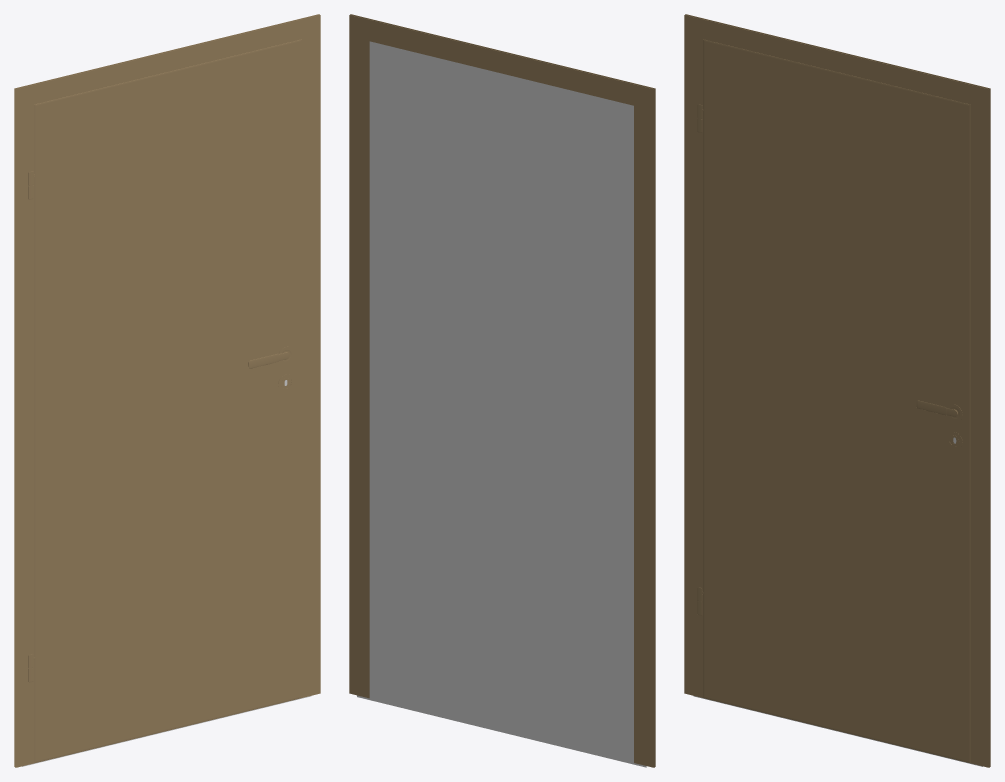
Rendered from door.gltf.
3 renders of one model, left to right at view 1: azimuth 30°, elevation 25°; view 2: azimuth 150°, elevation 25°; view 3: azimuth 330°, elevation 25°, orthographic.
Parts seen in each view (by area): view 1: door, frame; view 2: Door_Plane, frame; view 3: door, frame.
Boxes of the visible parts, left/top/right/bottom form: door: left=28, top=39, right=301, bottom=763; frame: left=14, top=14, right=320, bottom=767; Door_Plane: left=357, top=41, right=646, bottom=767; frame: left=349, top=14, right=655, bottom=767; door: left=697, top=39, right=970, bottom=763; frame: left=684, top=14, right=990, bottom=767.
Size of the model in its own units: 4.21 by 8.97 by 0.0431.
